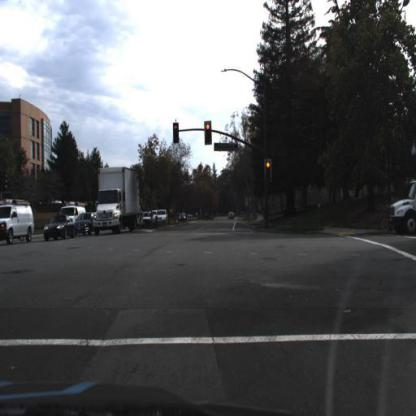car: (0, 200, 36, 246), (42, 212, 77, 244), (60, 200, 88, 222), (73, 210, 95, 234), (152, 207, 168, 223), (140, 212, 155, 228), (225, 207, 235, 223)
trafficLight-Red: (262, 158, 274, 187), (202, 118, 213, 146)
trafficLight-RedLeft: (172, 119, 181, 146)
truck: (91, 163, 139, 238), (389, 176, 415, 234)
